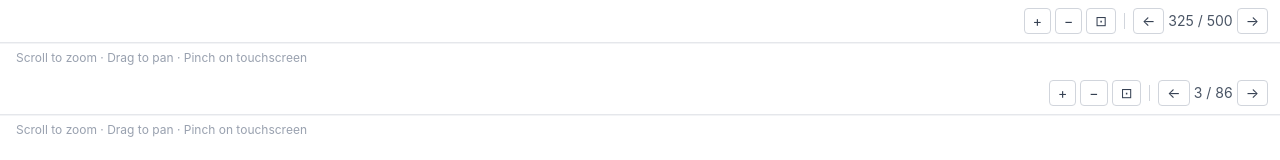
ManuscriptViewer › keeps each open manuscript's page its own
The image size is (1280, 160).
What coordinates should you click on to do the following:
click the button named "Next page"
I would click on:
 (1252, 93)
Its box is [1237, 80, 1268, 106].
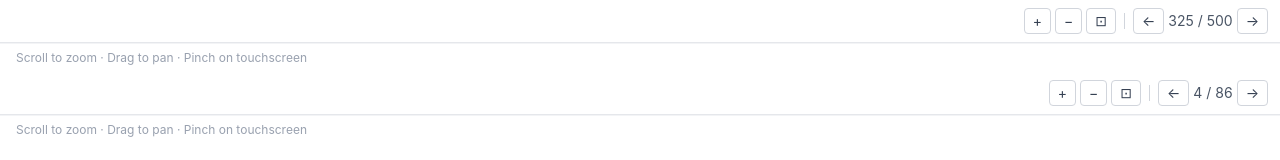
Check: the text "325 / 500" is shown, box [1168, 11, 1233, 31]
Check: the text "4 / 86" is shown, box [1193, 83, 1233, 103]
